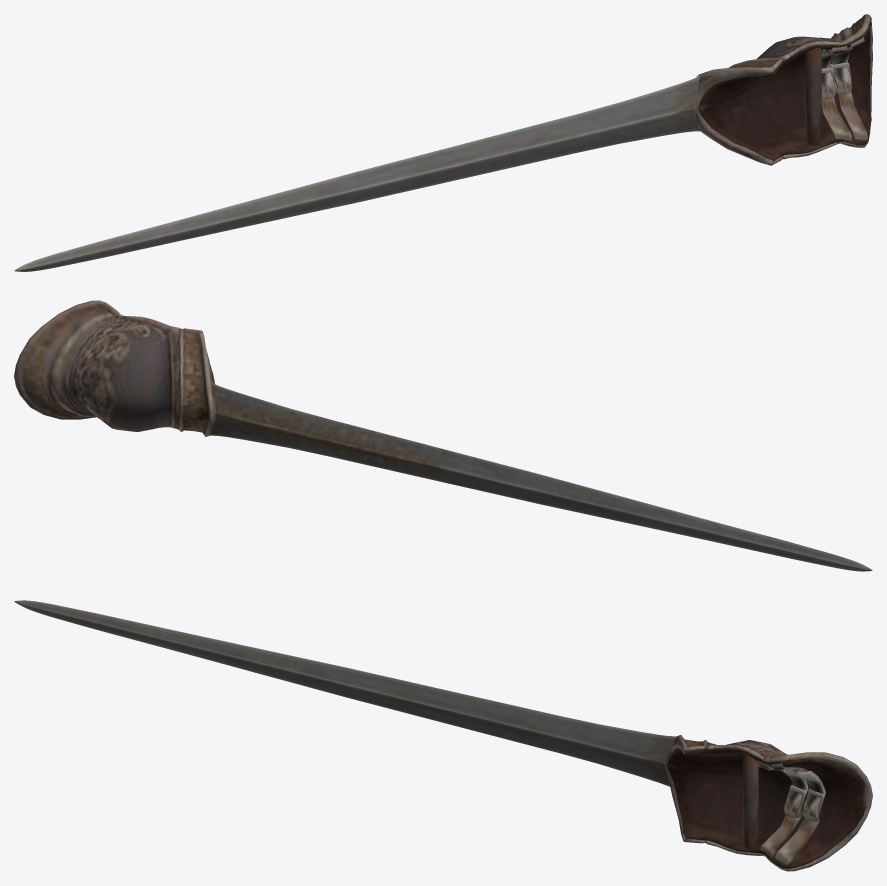
Rendered from weapon-wp_a_1650.glb.
The picture shows the model from 3 angles, top to bottom: view 1: azimuth 30°, elevation 25°; view 2: azimuth 150°, elevation 25°; view 3: azimuth 330°, elevation 25°; orthographic projection. The views are drawn at different scales.
Visible parts, largest first — view 1: wp_a_1650_mesh; view 2: wp_a_1650_mesh; view 3: wp_a_1650_mesh.
Boxes of the visible parts, x1,y1,x2,y2 form: wp_a_1650_mesh: (14,14,872,271); wp_a_1650_mesh: (14,300,872,571); wp_a_1650_mesh: (14,600,872,871).
Bounding box in the file's own units: 1.18 × 0.1552 × 0.1158.
Materials: 2 (2 with a texture image).
